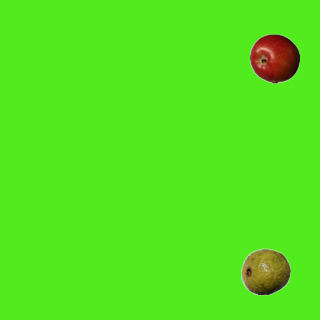Apple Braeburn: (249, 33, 299, 83)
Guava: (240, 246, 290, 296)
